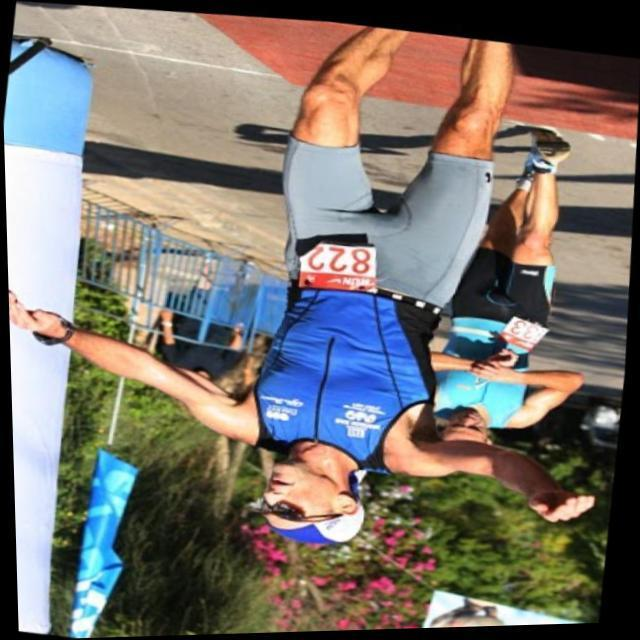dorsal: (282, 225, 396, 293), (500, 306, 553, 348)
